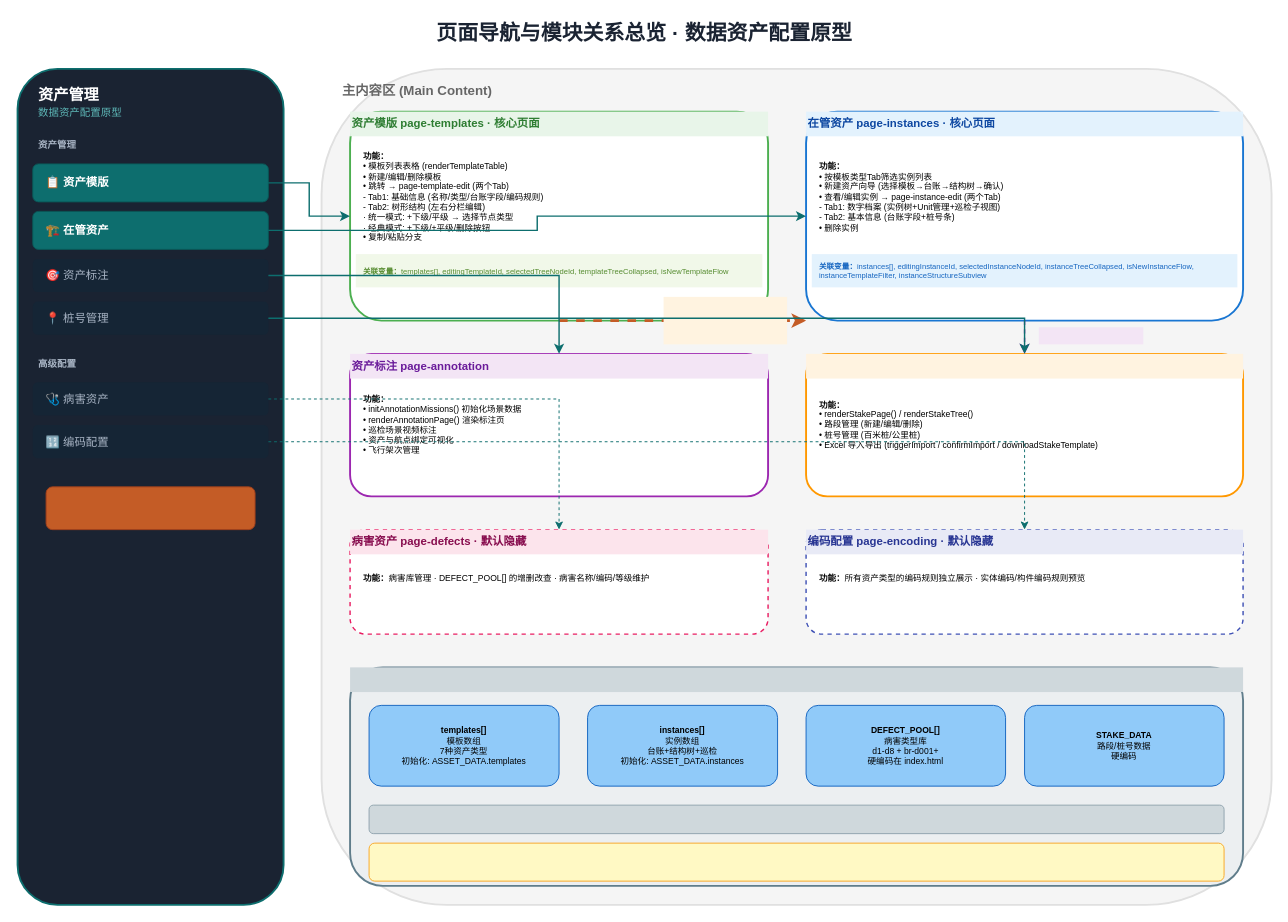
This 1288x922 diagram has some shape labels left out. Here are the shapes that lost their labels. From the top down, the box of each, then its label:
(663, 296, 787, 344): 模板实例化 新建资产时选择模板 深度复制模板树
(1038, 327, 1143, 344): 巡检数据 → 航点绑定
(806, 353, 1243, 378): 桩号管理 page-stakes
(45, 486, 255, 530): showPage(name) URL hash 路由
(350, 667, 1243, 692): 数据层 (浏览器内存) · 刷新页面即重置
(368, 804, 1224, 834): 数据源： asset-data.js (Python从Excel生成) + kunshi-data.js + index.html 硬编码
(368, 842, 1224, 881): ⚠️ 当前限制： 无后端持久化，saveTemplate()/saveInstance() 仅更新内存数组，刷新后丢失。未来需对接后端API。
